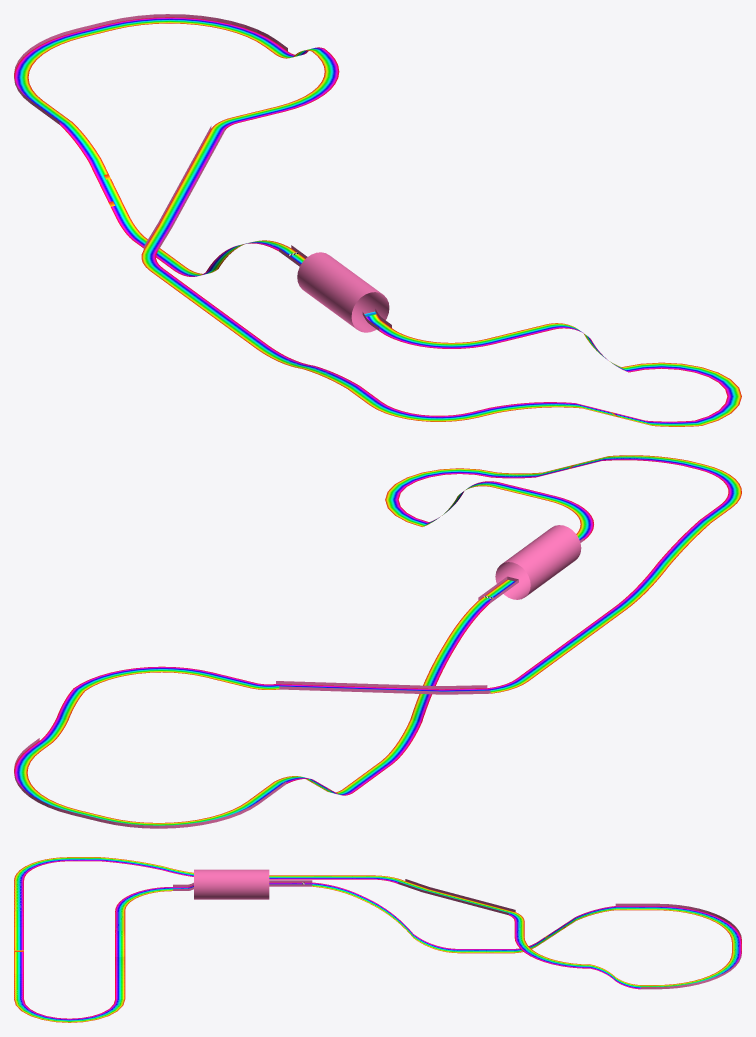
3 renders of one model, top to bottom at view 1: azimuth 30°, elevation 25°; view 2: azimuth 150°, elevation 25°; view 3: azimuth 270°, elevation 25°, orthographic. The views are drawn at different scales.
Parts seen in each view (by area): view 1: GK2_Rainbow_Road_v22_SKP__Road, GK2_Rainbow_Road_v22_SKP__Wall; view 2: GK2_Rainbow_Road_v22_SKP__Road, GK2_Rainbow_Road_v22_SKP__Wall; view 3: GK2_Rainbow_Road_v22_SKP__Road, GK2_Rainbow_Road_v22_SKP__Wall.
Boxes of the visible parts, x1,y1,x2,y2 form: GK2_Rainbow_Road_v22_SKP__Road: (14,17,741,426); GK2_Rainbow_Road_v22_SKP__Wall: (14,14,391,332); GK2_Rainbow_Road_v22_SKP__Road: (14,455,741,825); GK2_Rainbow_Road_v22_SKP__Wall: (14,525,583,828); GK2_Rainbow_Road_v22_SKP__Road: (14,857,741,1022); GK2_Rainbow_Road_v22_SKP__Wall: (173,869,741,989).
Bounding box in the file's own units: 57250 × 17500 × 144000.
5 materials, 5 textured.
